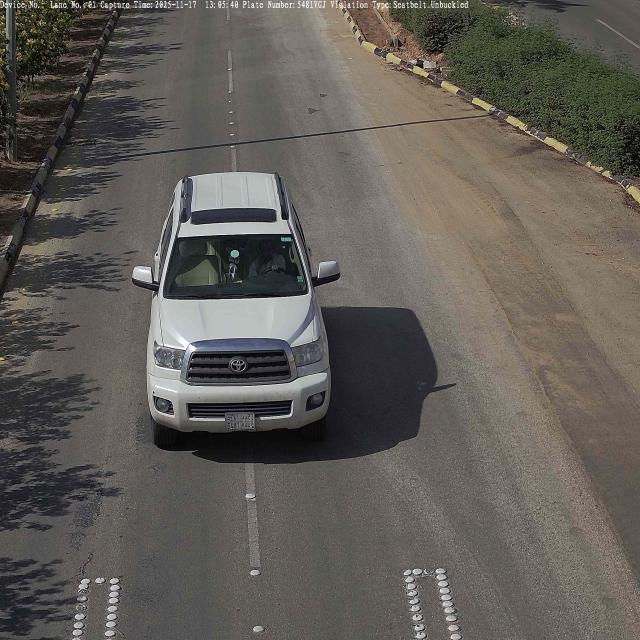person_without_seatbelt: (249, 237, 288, 282)
